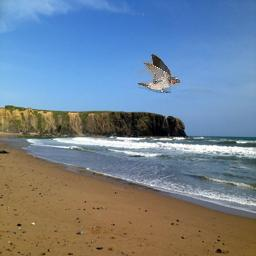Swallow: (137, 54, 180, 93)
